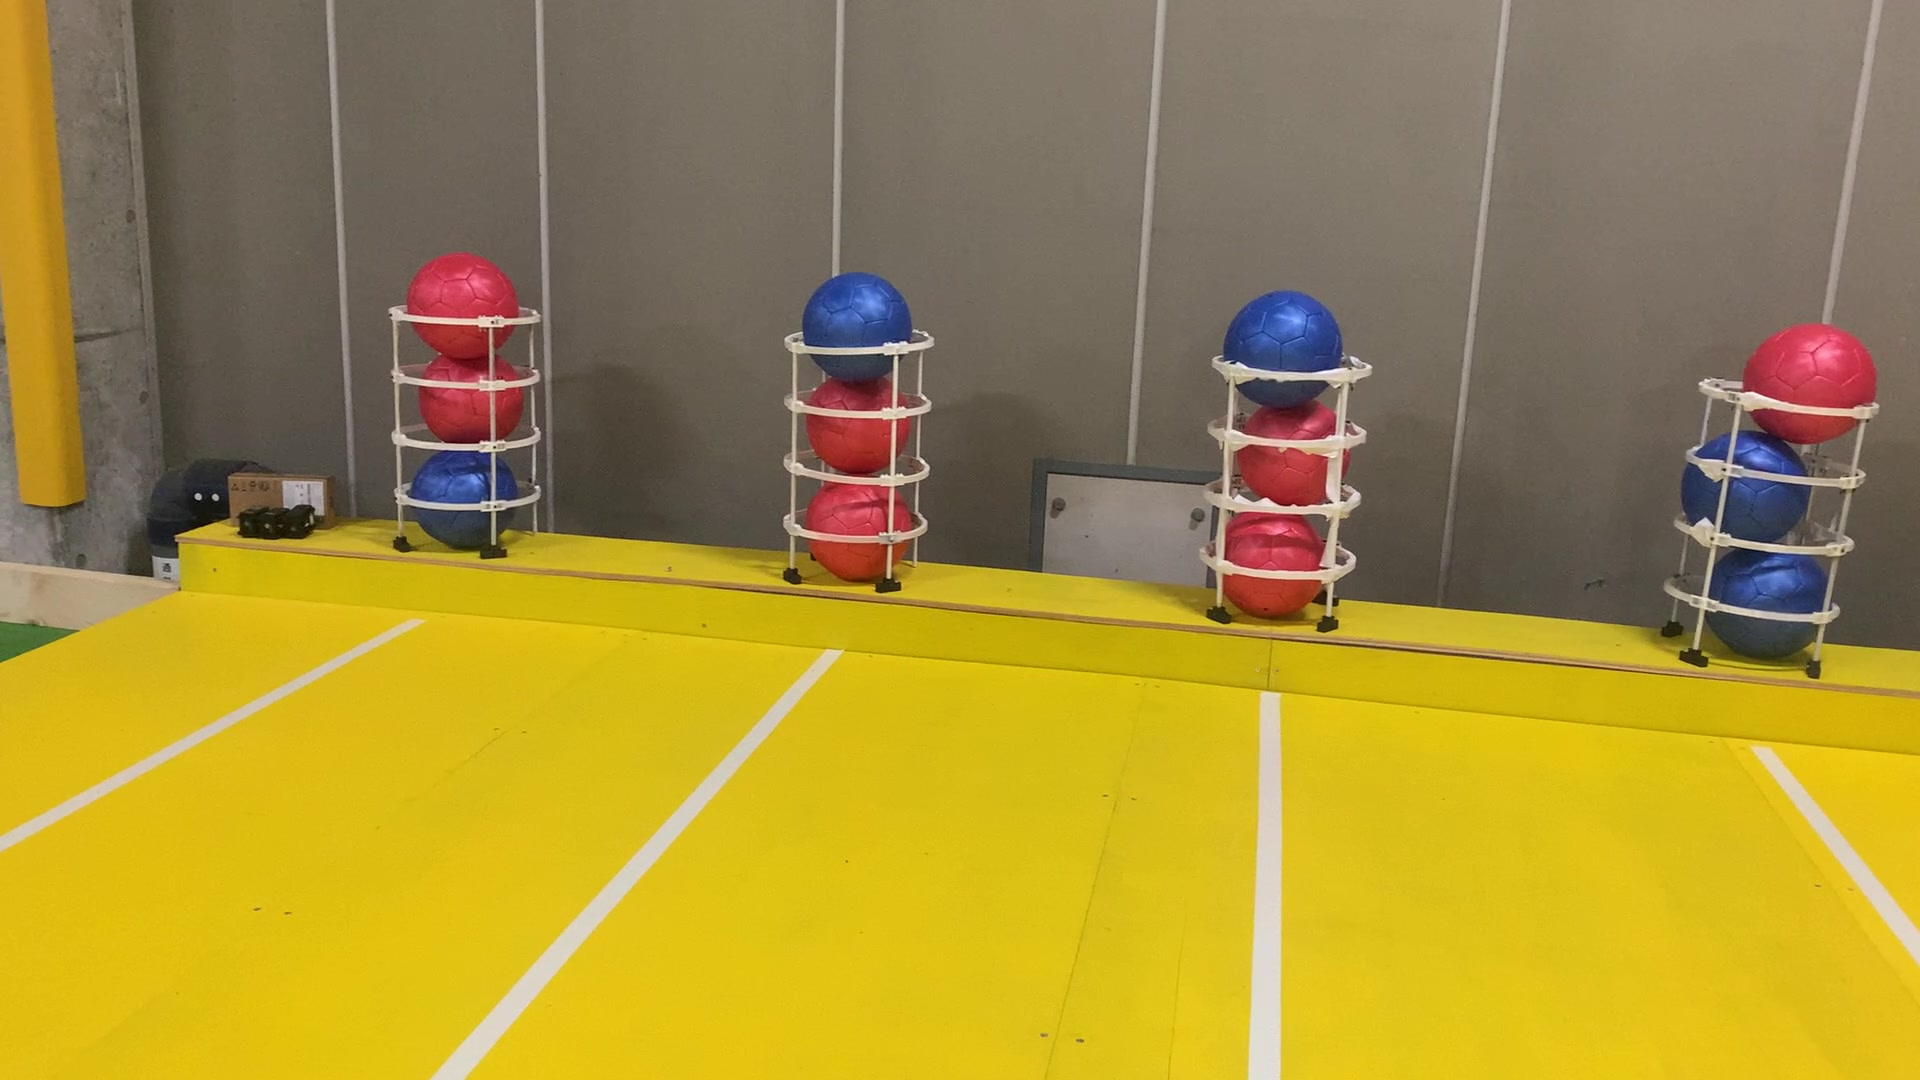blue: (1697, 530, 1836, 669), (1675, 414, 1807, 543), (1212, 282, 1345, 410), (799, 266, 913, 385), (407, 439, 518, 559)
red: (1741, 307, 1888, 455), (1226, 389, 1356, 517), (1205, 498, 1333, 624), (402, 244, 521, 361), (799, 467, 913, 575), (800, 371, 916, 476), (411, 348, 524, 448)
